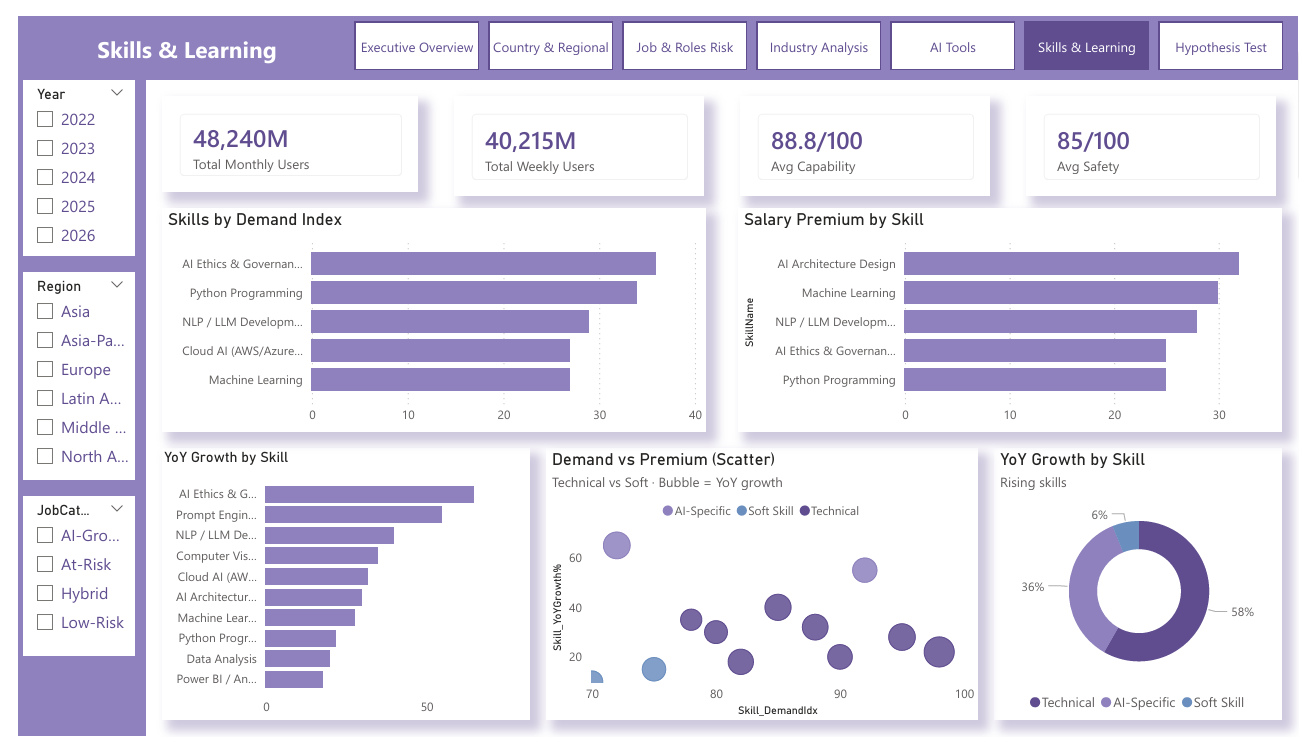

The page's visual inventory and layout, read from the dashboard file:
{"tool":"powerbi","page":{"name":" Skills & Learning","canvas":[1280,720],"ordinal":5},"visuals":[{"type":"shape","box":[0,0,1280,64],"z":0},{"type":"shape","box":[0,64,128,656],"z":1000},{"type":"cardVisual","fields":{"Data":["Measure.Avg Safety"]},"box":[1008,80,250,100],"z":2000},{"type":"cardVisual","fields":{"Data":["Measure.Total Monthly Users"]},"box":[144,80,256,96],"z":3000},{"type":"cardVisual","fields":{"Data":["Measure.Avg Capability"]},"box":[722,80,250,100],"z":4000},{"type":"cardVisual","fields":{"Data":["Measure.Total Weekly Users"]},"box":[436,80,250,100],"z":5000},{"type":"donutChart","title":"YoY Growth by Skill","fields":{"Category":["Fact_JobsAI.SkillType"],"Y":["Sum(Fact_JobsAI.Skill_YoYGrowth%)"]},"box":[976,432,288,272],"z":6000},{"type":"barChart","title":"YoY Growth by Skill","fields":{"Category":["Fact_JobsAI.SkillName"],"Y":["Avg(Fact_JobsAI.Skill_YoYGrowth%)"]},"box":[144,432,368,272],"z":7000},{"type":"scatterChart","title":"Demand vs Premium (Scatter)","fields":{"X":["Fact_JobsAI.Skill_DemandIdx"],"Y":["Fact_JobsAI.Skill_YoYGrowth%"],"Series":["Fact_JobsAI.SkillType"],"Size":["Sum(Fact_JobsAI.Skill_DemandIdx)1"]},"box":[528,432,432,272],"z":8000},{"type":"clusteredBarChart","title":"Skills by Demand Index","fields":{"Category":["Fact_JobsAI.SkillName"],"Y":["CountNonNull(Fact_JobsAI.Skill_DemandIdx)"]},"box":[144,192,544,224],"z":9000},{"type":"clusteredBarChart","title":"Salary Premium by Skill","fields":{"Y":["Avg(Fact_JobsAI.Skill_SalaryPrem%)"],"Category":["Fact_JobsAI.SkillName"]},"box":[720,192,544,224],"z":10000},{"type":"slicer","fields":{"Values":["Dim_Date.Year"]},"box":[5,64,112,176],"z":11000},{"type":"slicer","fields":{"Values":["Fact_JobsAI.Region"]},"box":[5,256,112,208],"z":12000},{"type":"slicer","fields":{"Values":["Fact_JobsAI.JobCategory"]},"box":[5,480,112,160],"z":13000},{"type":"shape","box":[0,0,336,64],"z":15000},{"type":"pageNavigator","box":[336,5,928,48],"z":15001}]}

Visuals, with their boxes in screenshot pixels (x1, y1, x2, y2), scaled from the page's 1280x720 canvas onto the 1316x754 screenshot:
shape: 0,0,1315,67
shape: 0,67,132,753
cardVisual - Measure.Avg Safety: 1036,84,1293,188
cardVisual - Measure.Total Monthly Users: 148,84,411,184
cardVisual - Measure.Avg Capability: 742,84,999,188
cardVisual - Measure.Total Weekly Users: 448,84,705,188
"YoY Growth by Skill" donutChart: 1003,452,1300,737
"YoY Growth by Skill" barChart: 148,452,526,737
"Demand vs Premium (Scatter)" scatterChart: 543,452,987,737
"Skills by Demand Index" clusteredBarChart: 148,201,707,436
"Salary Premium by Skill" clusteredBarChart: 740,201,1300,436
slicer - Dim_Date.Year: 5,67,120,251
slicer - Fact_JobsAI.Region: 5,268,120,486
slicer - Fact_JobsAI.JobCategory: 5,503,120,670
shape: 0,0,345,67
pageNavigator: 345,5,1300,56
